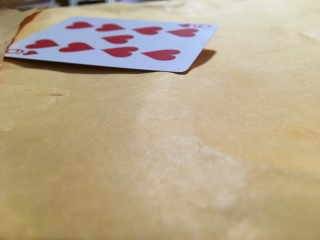NineOfHearts: (4, 16, 219, 72)
